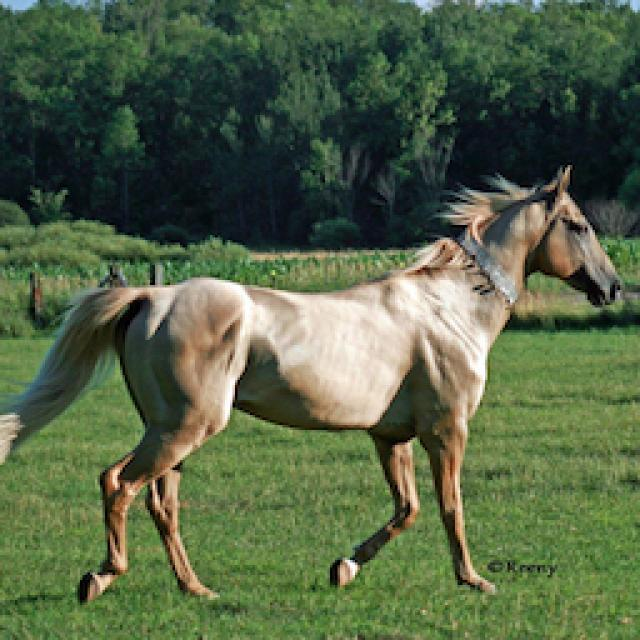Horse: (0, 157, 632, 610)
